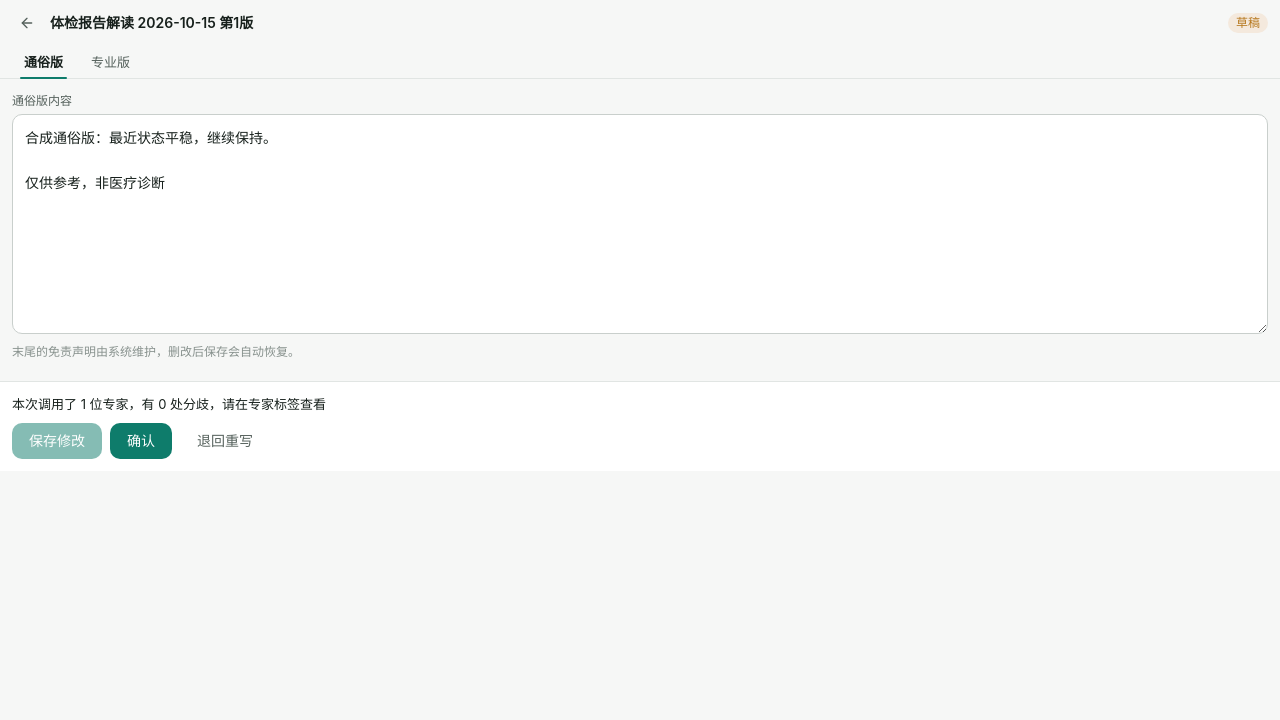
退回重写时重新请专家（Q21） › 报告数值已更正：不让选，提示会按更正后的数值重新请专家
Click the button "退回重写": {"x": 225, "y": 441} [180,423,270,459]
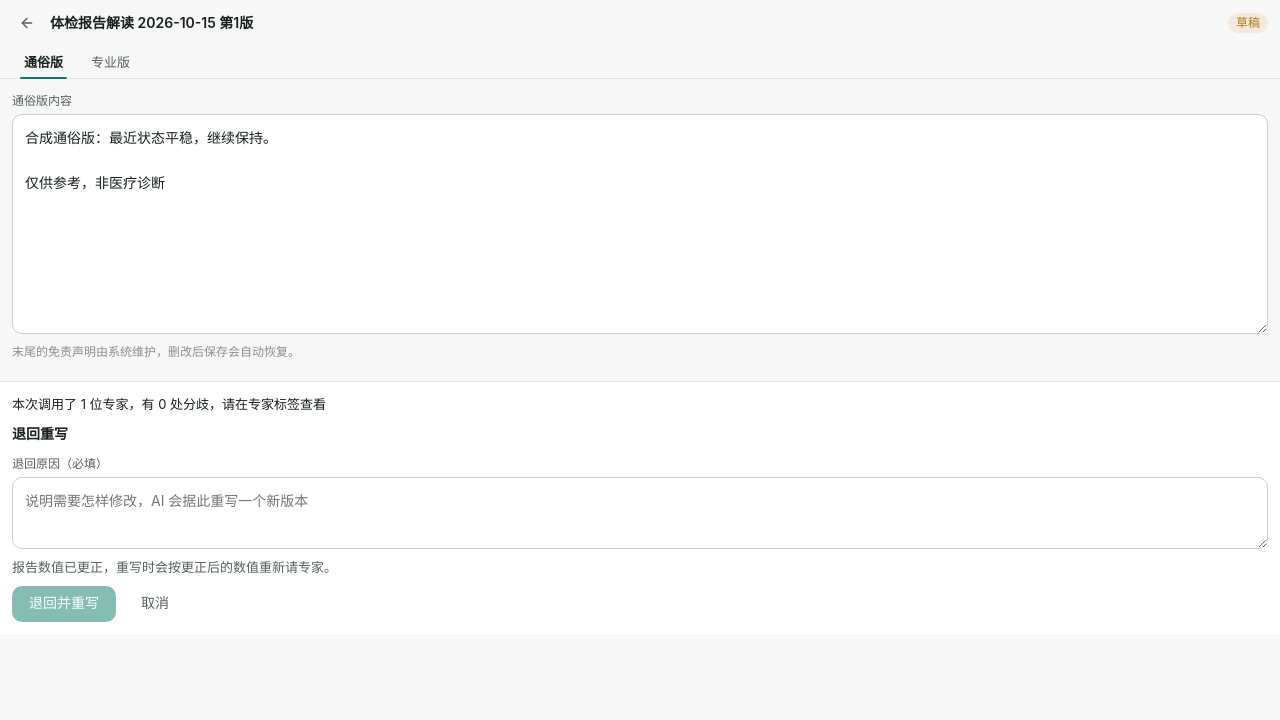
Result: the text "报告数值已更正，重写时会按更正后的数值重新请专家。" is shown at [12,559,337,575]
